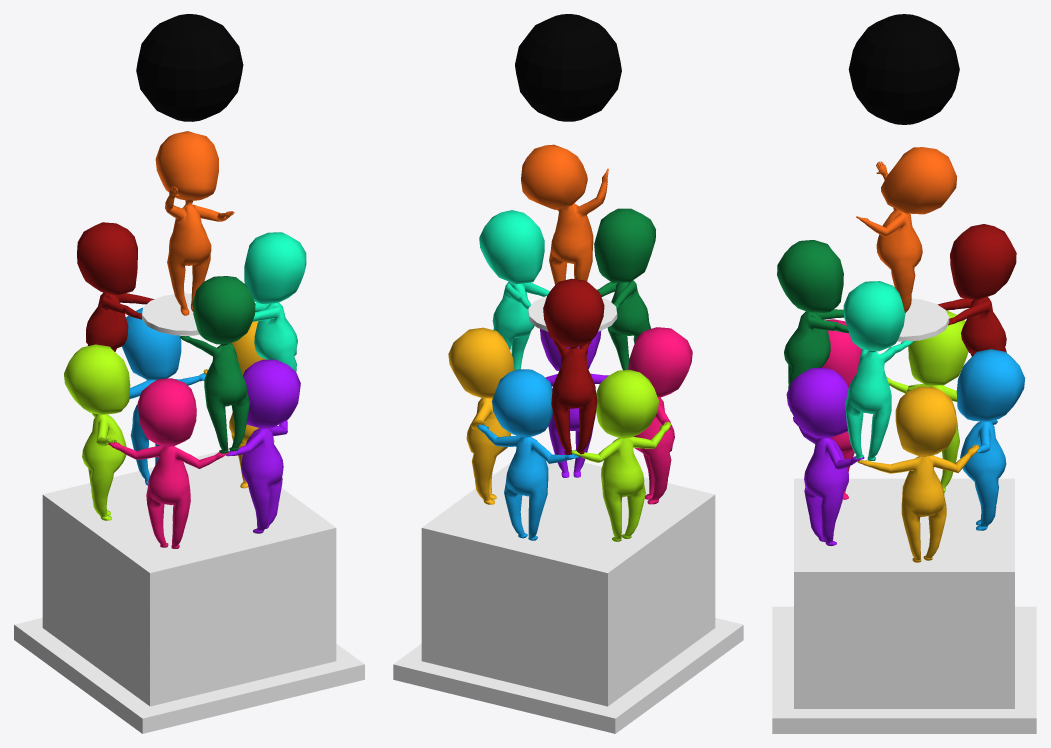
File: Skulptur_reduziert_zwei_Elemente.fbx
3 views of the same model, side by side, from view 1: azimuth 30°, elevation 25°; view 2: azimuth 150°, elevation 25°; view 3: azimuth 270°, elevation 25° (orthographic). The views are drawn at different scales.
Visible parts, largest first — view 1: Skulptur, Disco_Kugel; view 2: Skulptur, Disco_Kugel; view 3: Skulptur, Disco_Kugel.
Boxes of the visible parts, <box> form: Skulptur: <box>14,131,364,733</box>; Disco_Kugel: <box>136,14,243,121</box>; Skulptur: <box>393,144,743,733</box>; Disco_Kugel: <box>515,14,621,121</box>; Skulptur: <box>772,147,1036,733</box>; Disco_Kugel: <box>848,14,959,124</box>.
Bounding box in the file's own units: 239 × 658 × 239.
